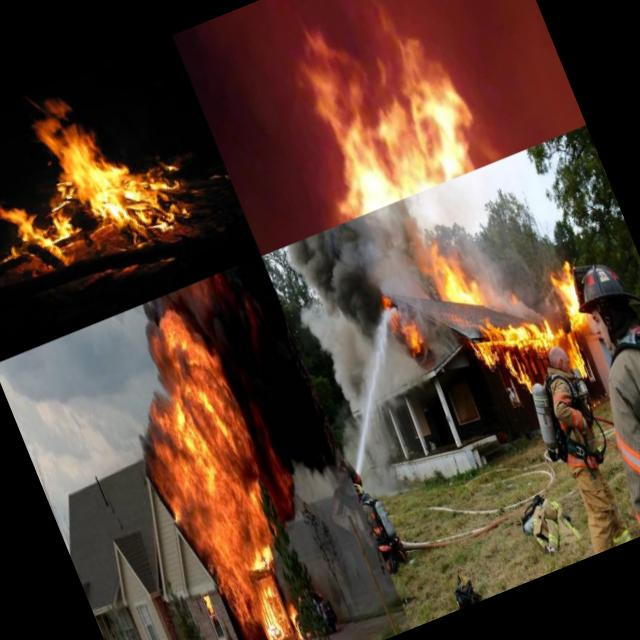fire: (99, 303, 327, 640), (290, 22, 518, 223), (0, 57, 198, 283), (465, 296, 560, 372), (422, 230, 489, 324), (542, 256, 596, 334), (392, 308, 432, 366), (503, 357, 538, 402), (563, 339, 591, 383)
smoke: (190, 256, 352, 512), (268, 197, 442, 341), (313, 316, 397, 426), (467, 236, 537, 314)
